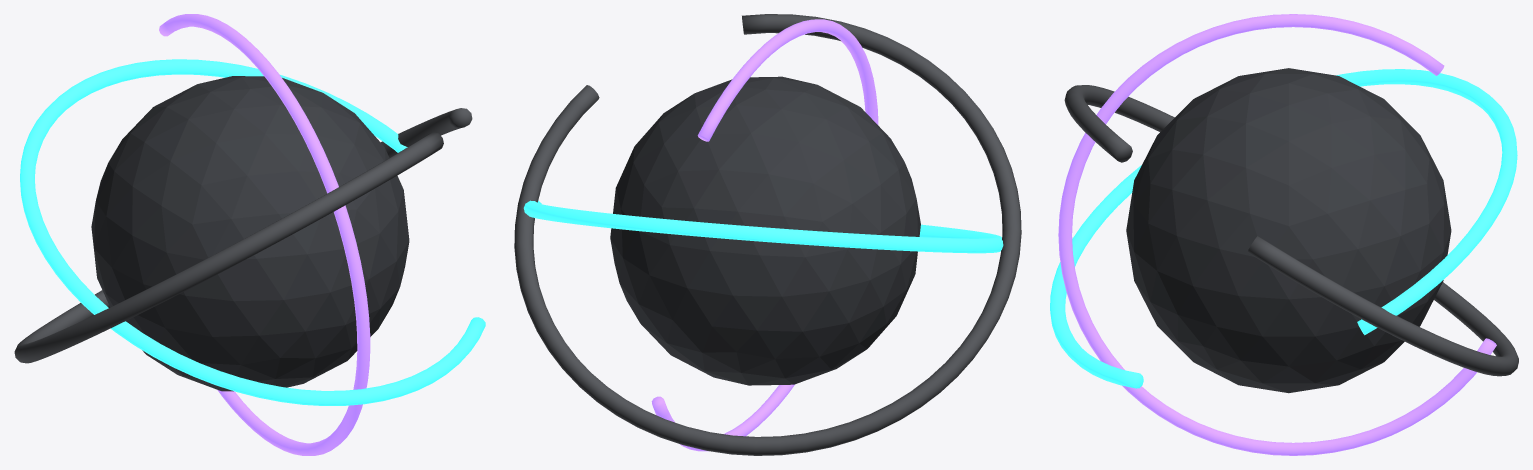
The model's file is ai-core.glb.
The picture shows the model from 3 angles, left to right: view 1: azimuth 30°, elevation 25°; view 2: azimuth 150°, elevation 25°; view 3: azimuth 270°, elevation 25°; orthographic projection. The views are drawn at different scales.
Visible parts, largest first — view 1: AI_Core; view 2: AI_Core; view 3: AI_Core.
Boxes of the visible parts, bbox=[...] form: AI_Core: bbox=[14, 14, 485, 455]; AI_Core: bbox=[514, 14, 1021, 455]; AI_Core: bbox=[1050, 14, 1518, 455].
Bounding box in the file's own units: 2 × 1.83 × 1.83.
